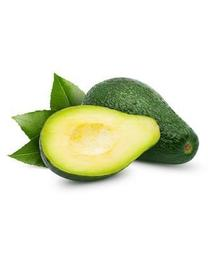avocado: (84, 77, 200, 172), (37, 103, 161, 183)
